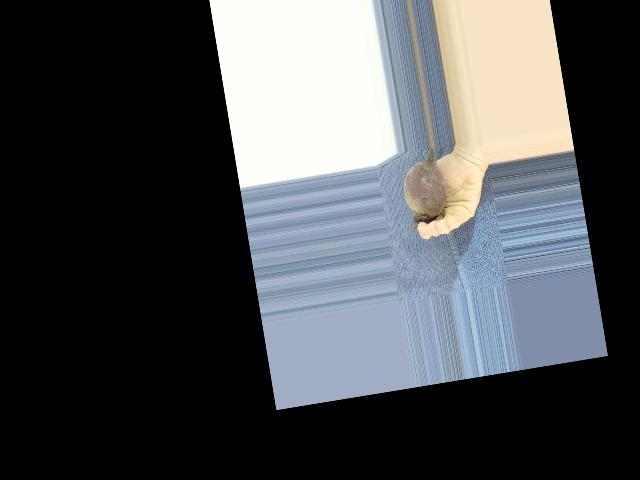beet: (398, 146, 453, 230)
